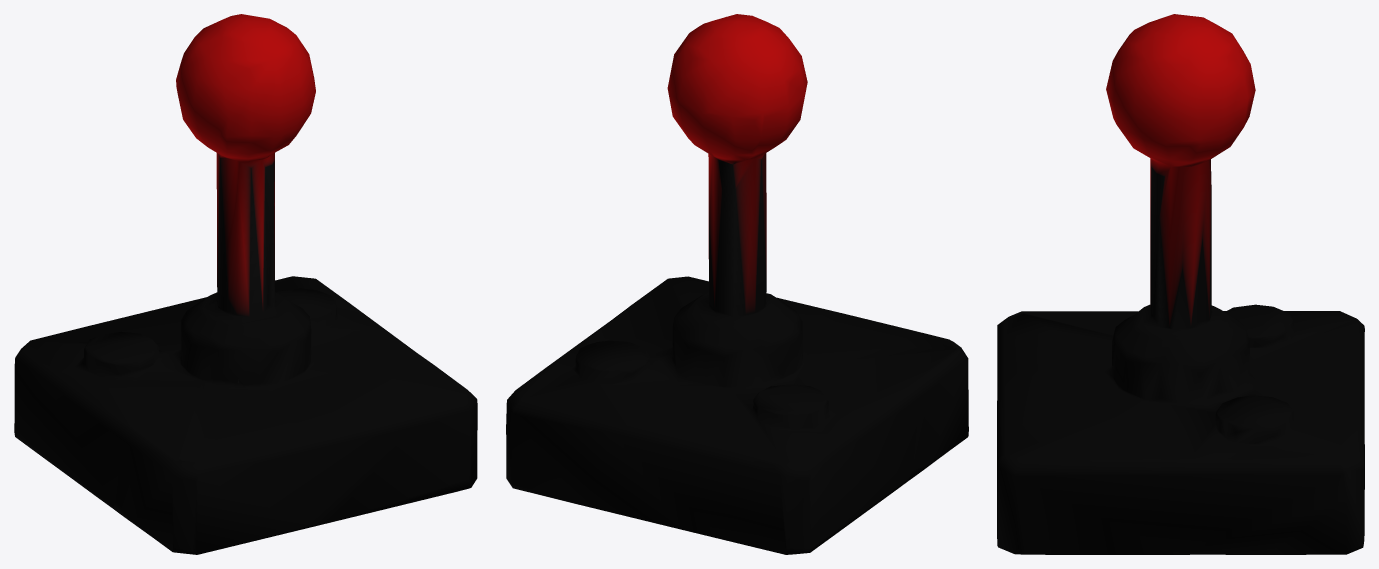
Rendered from gen3d-joystick-lod1.glb.
The picture shows the model from 3 angles, left to right: view 1: azimuth 30°, elevation 25°; view 2: azimuth 150°, elevation 25°; view 3: azimuth 270°, elevation 25°; orthographic projection. The views are drawn at different scales.
Visible parts, largest first — view 1: part_0; view 2: part_0; view 3: part_0.
Part boxes in pixels (x1=…): part_0: x1=14, y1=14, x2=477, y2=554; part_0: x1=506, y1=14, x2=968, y2=554; part_0: x1=997, y1=14, x2=1364, y2=554.
Size of the model in its own units: 0.7298 by 1 by 0.7292.
